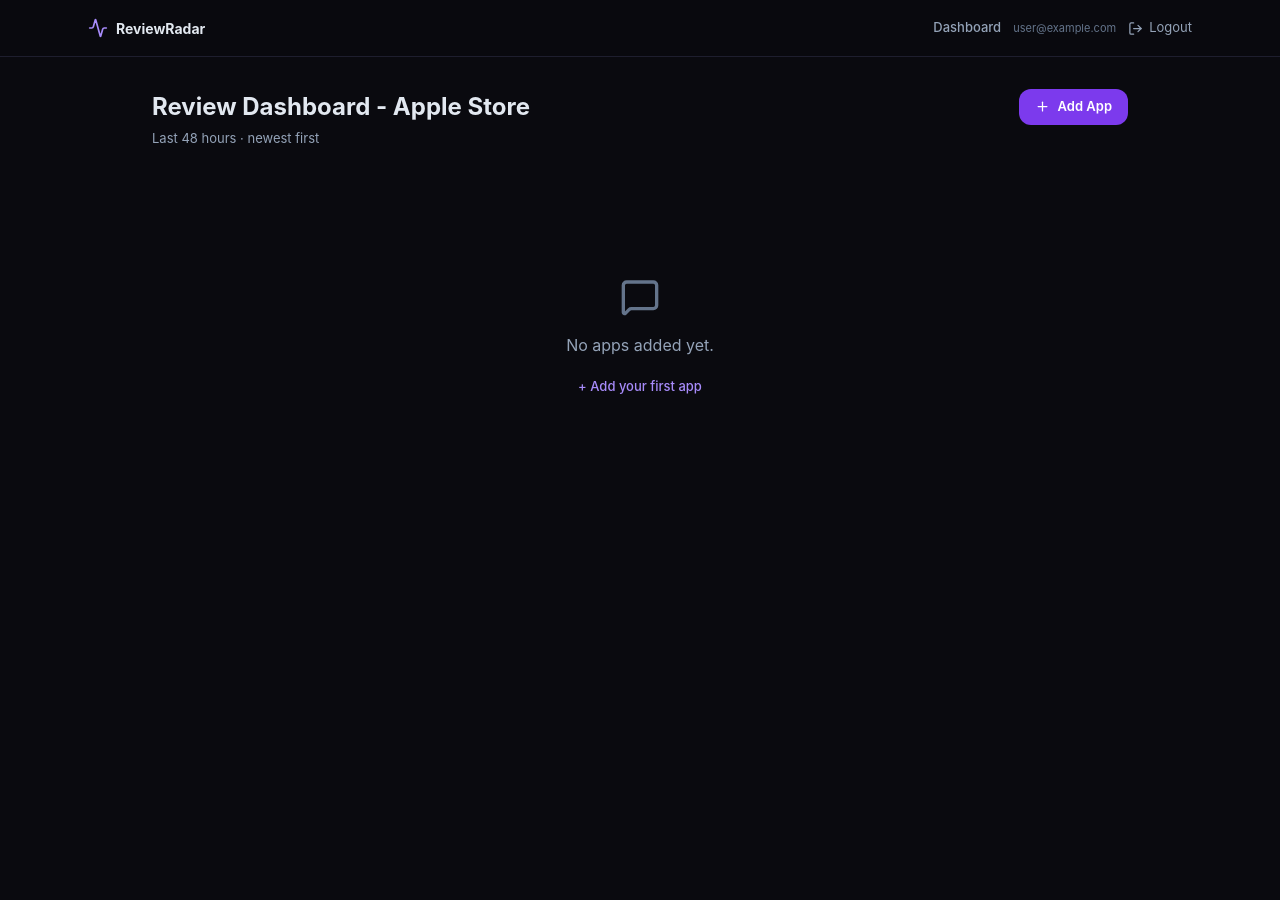
Test case: Dashboard › opens the add app modal from the empty app state
Expected: the text "No apps added yet." is shown, x1=566 y1=334 x2=714 y2=354
Click the button "+ Add your first app" at (640, 386), box x1=578 y1=376 x2=702 y2=396
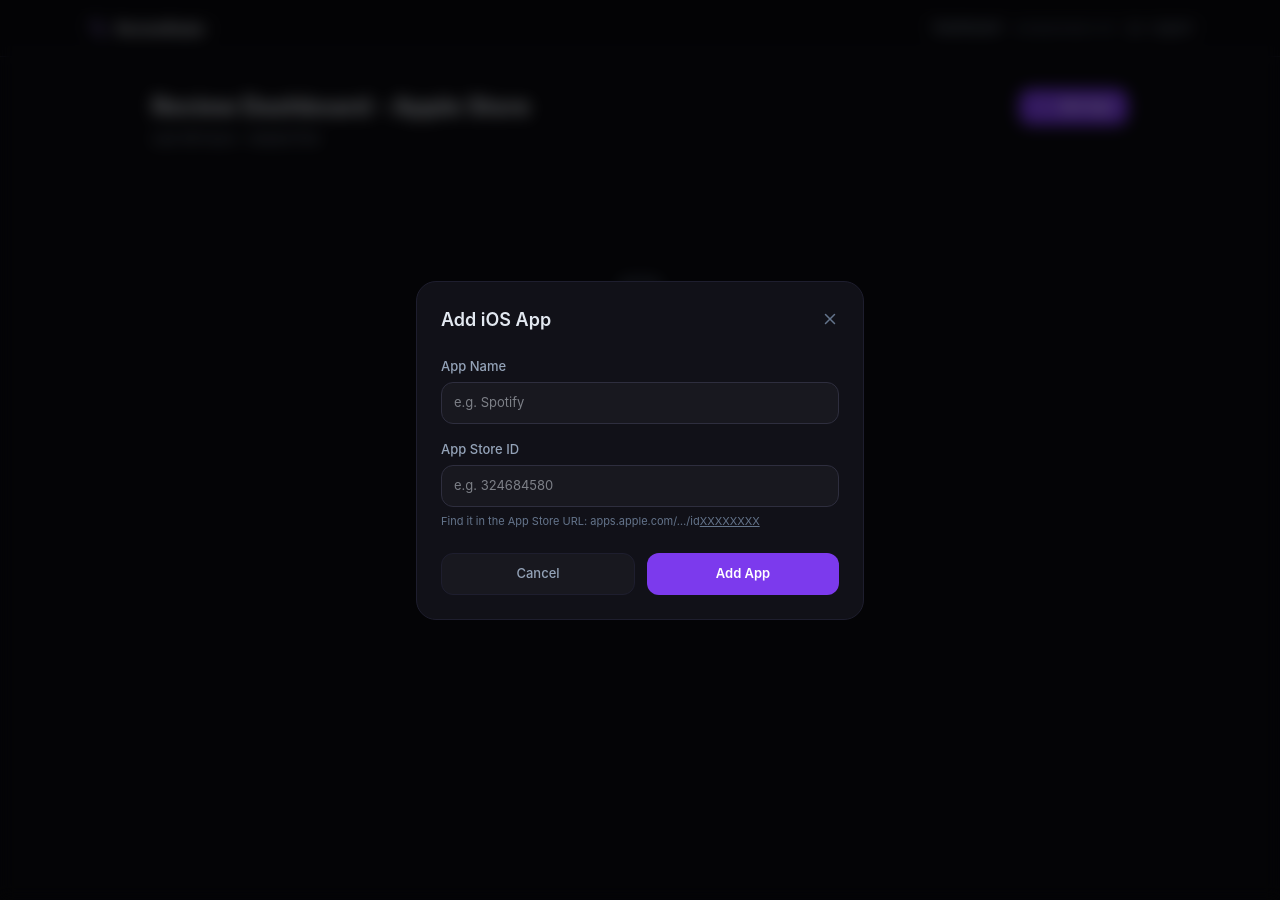
Now the heading "Add iOS App" is shown, box x1=441 y1=306 x2=551 y2=332
